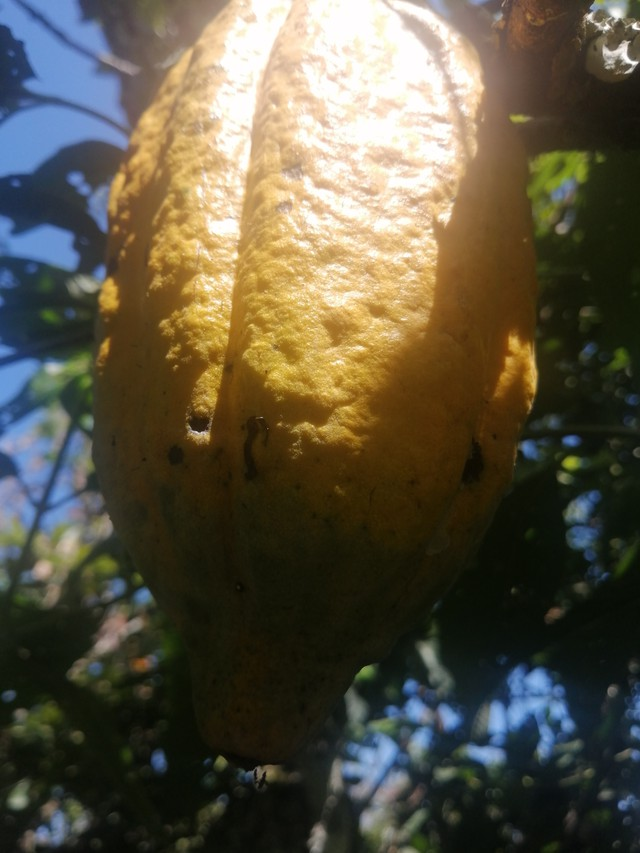moniliophthora perniciosa: (76, 0, 570, 776)
